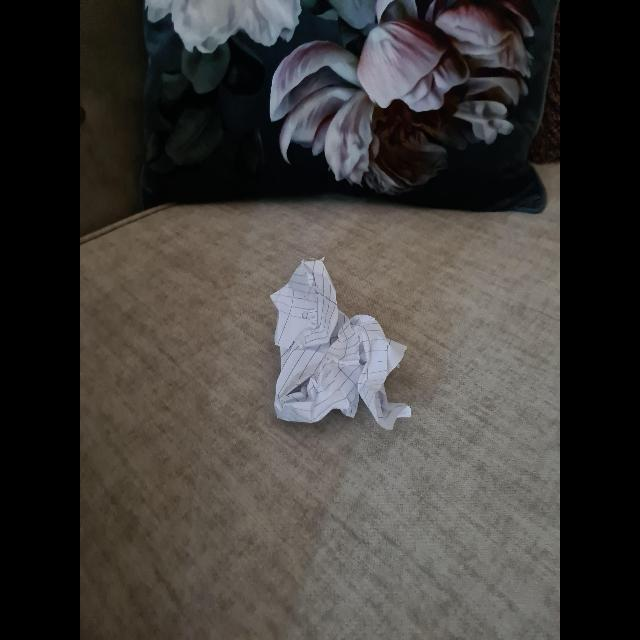scrap_paper: (266, 256, 410, 432)
